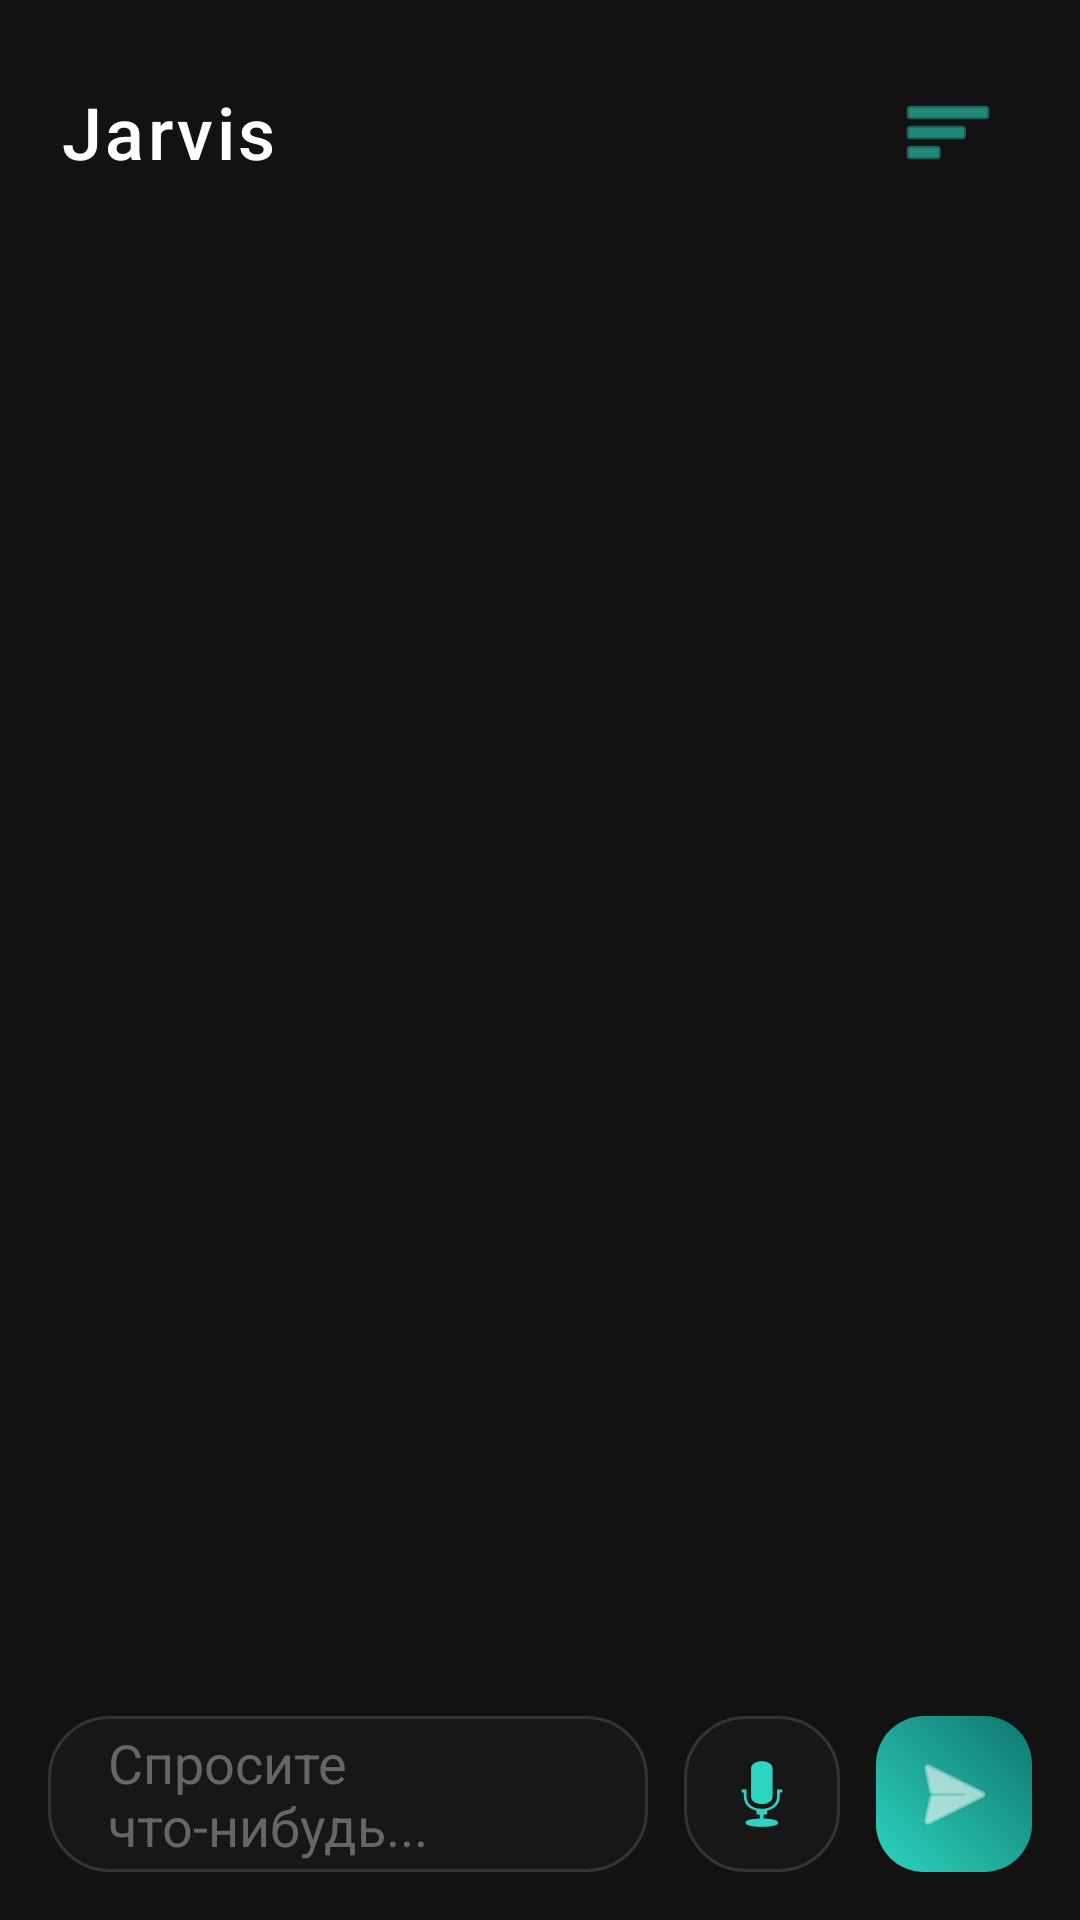

Icon bounding boxes for this 1080 x 1920 phone screenshot, format [x1=x1, y1=y1, x2=x2, y2=y2]:
send: [x1=876, y1=1716, x2=1032, y2=1872]
sort by size: [x1=907, y1=106, x2=989, y2=159]
speak now: [x1=684, y1=1716, x2=840, y2=1872]
